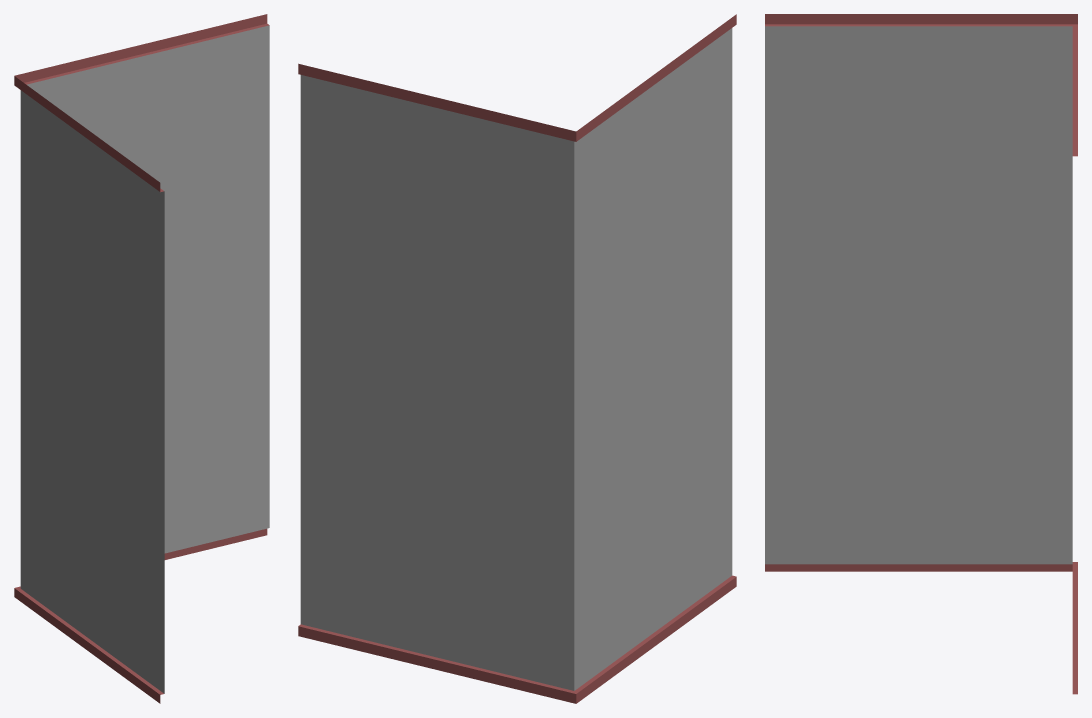
The model's file is Prop_WallIntCorner1_5x3_01.fbx.
3 renders of one model, left to right at view 1: azimuth 30°, elevation 25°; view 2: azimuth 150°, elevation 25°; view 3: azimuth 270°, elevation 25°, orthographic. The views are drawn at different scales.
Visible parts, largest first — view 1: Prop_WallIntCorner1_5x3_01; view 2: Prop_WallIntCorner1_5x3_01; view 3: Prop_WallIntCorner1_5x3_01.
Boxes of the visible parts, <box> form: Prop_WallIntCorner1_5x3_01: <box>14,14,269,703</box>; Prop_WallIntCorner1_5x3_01: <box>298,14,736,703</box>; Prop_WallIntCorner1_5x3_01: <box>765,14,1077,694</box>.
Bounding box in the file's own units: 1.53 × 3 × 1.52.
